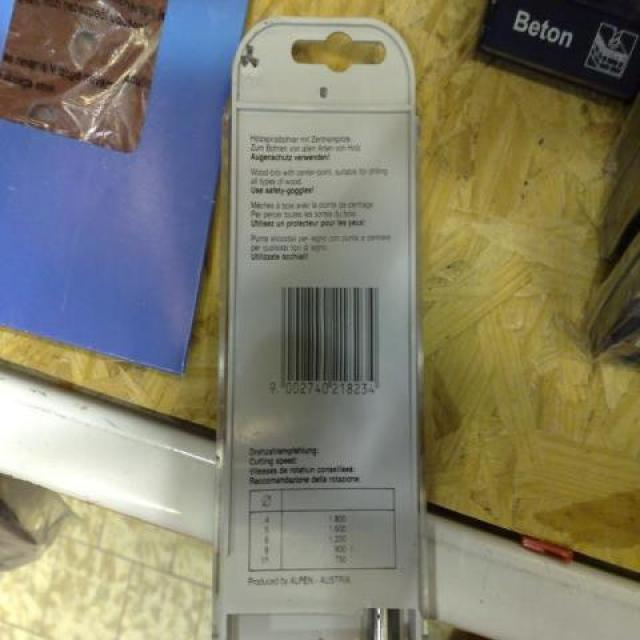Barcode: (254, 273, 399, 412)
